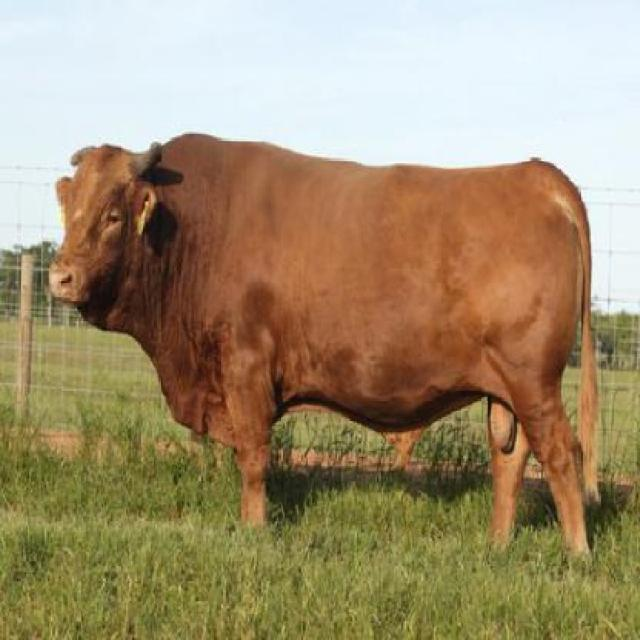Cow: (56, 132, 604, 565)
